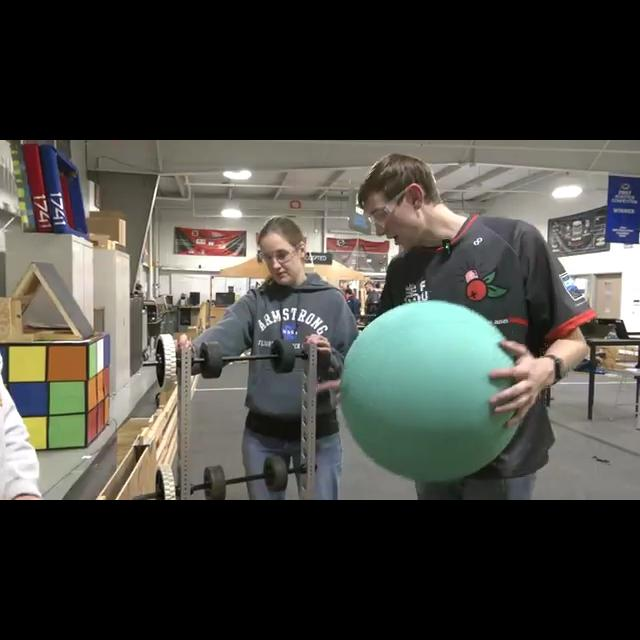ALGAE: (337, 298, 521, 482)
